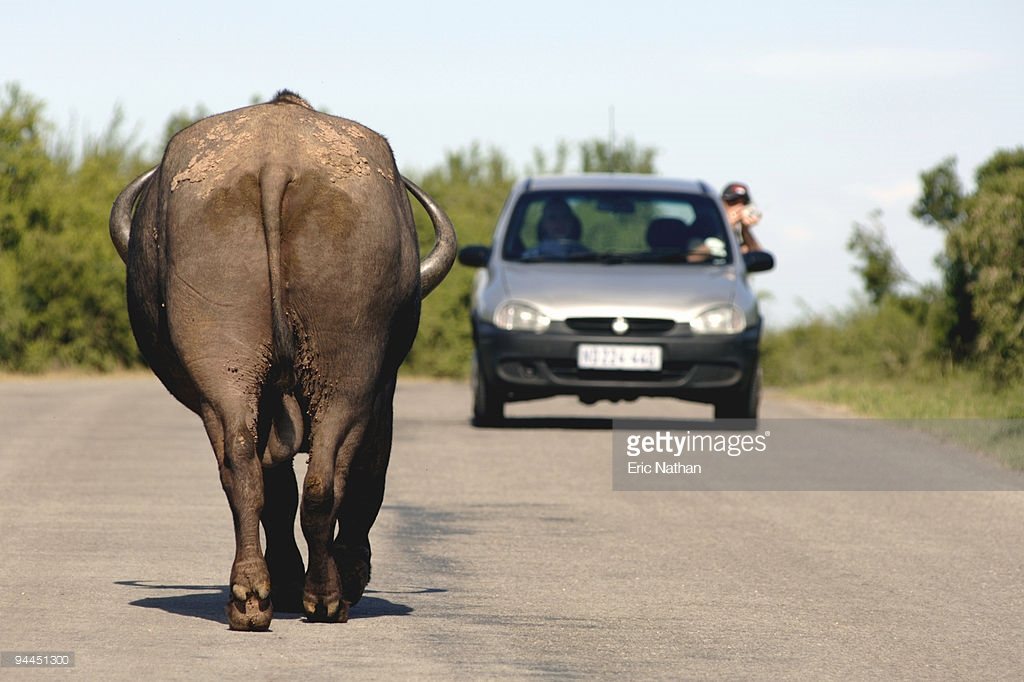buffalo: (111, 96, 468, 646)
